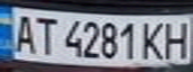1: (118, 19, 142, 60)
2: (78, 17, 103, 60)
4: (60, 16, 84, 57)
8: (100, 19, 121, 60)
A: (9, 11, 39, 55)
H: (160, 18, 193, 60)
K: (139, 18, 169, 61)
T: (30, 14, 60, 56)
